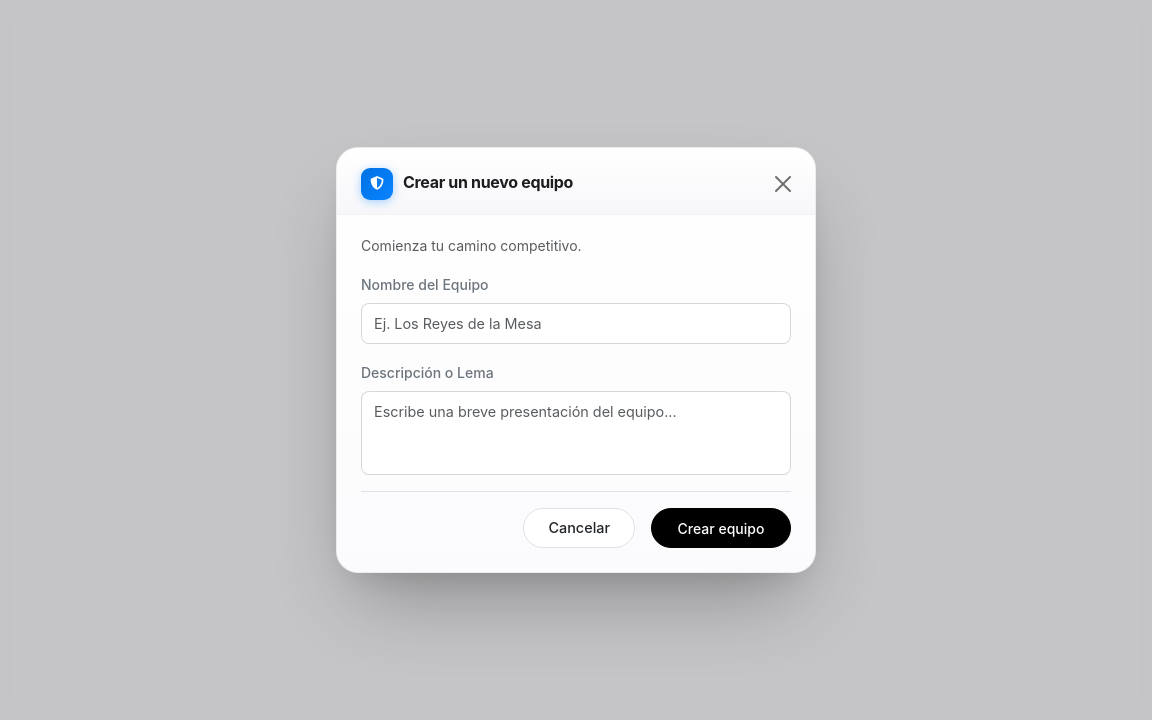
it: CreateTeamModal › no abre el modal de confirmacion si faltan campos
Click the button "Crear equipo".
click(721, 528)  # box [651,508,791,548]
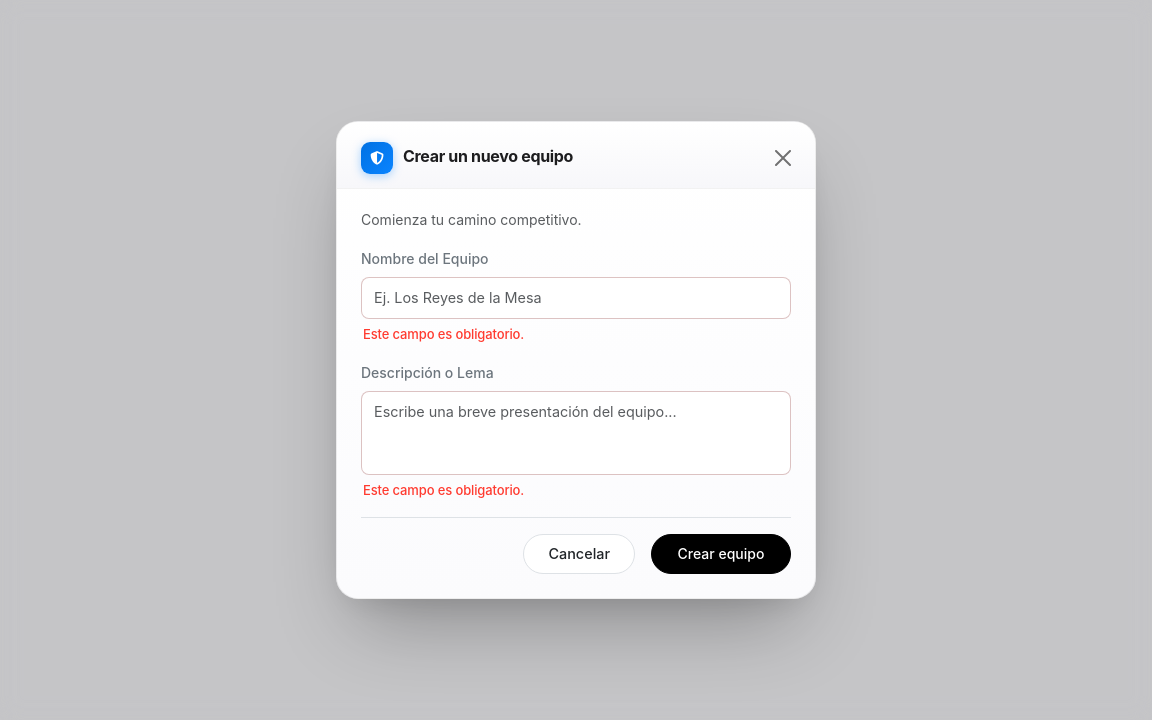
Expected: the text "Este campo es obligatorio." is shown 2 times, [363,326,524,342]; [363,482,524,498]
